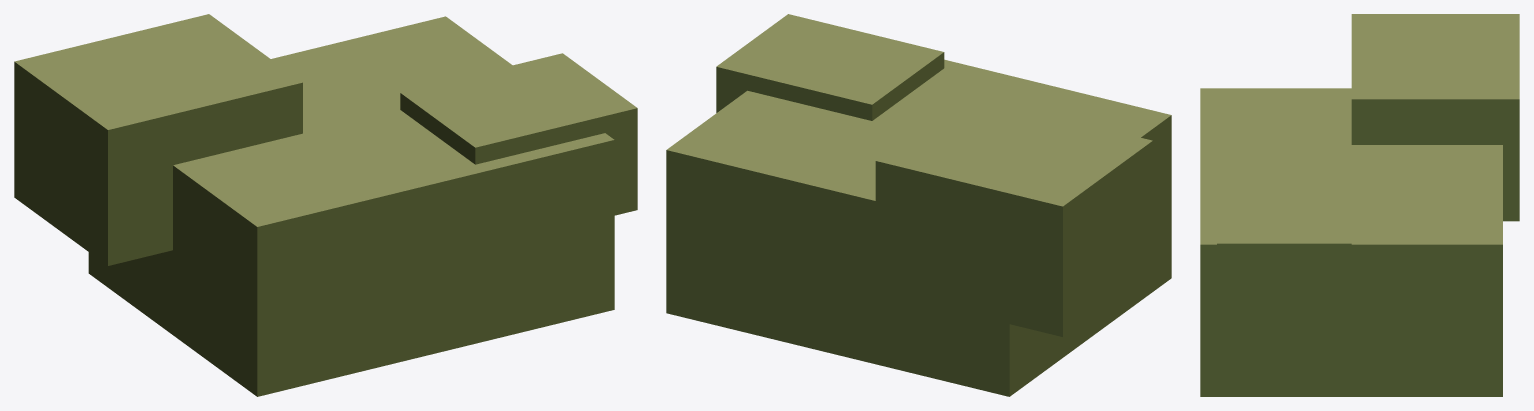
File: veg_shrub_var01_small.glb
3 views of the same model, side by side, from view 1: azimuth 30°, elevation 25°; view 2: azimuth 150°, elevation 25°; view 3: azimuth 270°, elevation 25° (orthographic). The views are drawn at different scales.
Visible parts, largest first — view 1: veg_shrub_var01_small; view 2: veg_shrub_var01_small; view 3: veg_shrub_var01_small.
Boxes of the visible parts, x1,y1,x2,y2 form: veg_shrub_var01_small: [14, 14, 637, 396]; veg_shrub_var01_small: [666, 14, 1171, 396]; veg_shrub_var01_small: [1200, 14, 1519, 396].
Bounding box in the file's own units: 1.75 × 0.8125 × 1.19.
